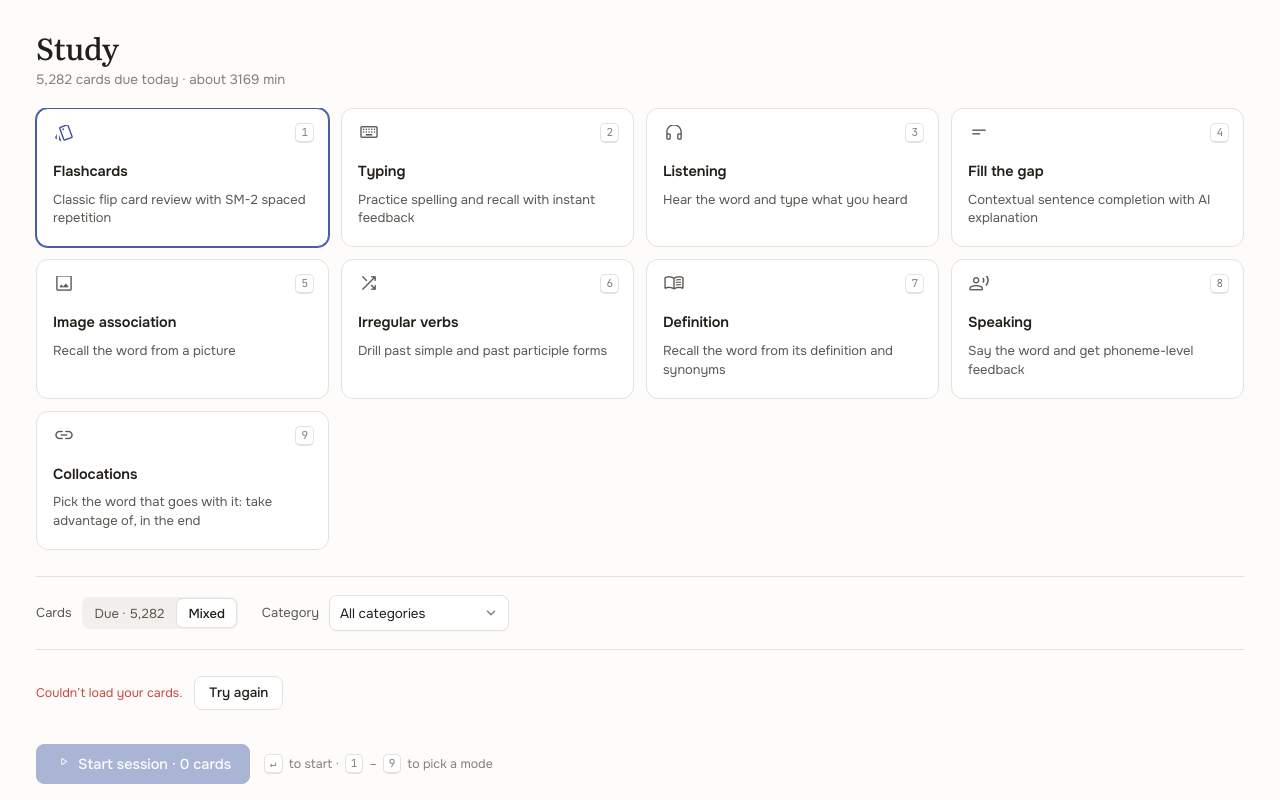
Test: StudyPage › setup screen › shows an error with Try again when the queue cannot be loaded, and recovers
What coordinates should you click on to do the following:
click the button "Try again"
I would click on:
 (239, 693)
Its box is left=194, top=676, right=283, bottom=710.
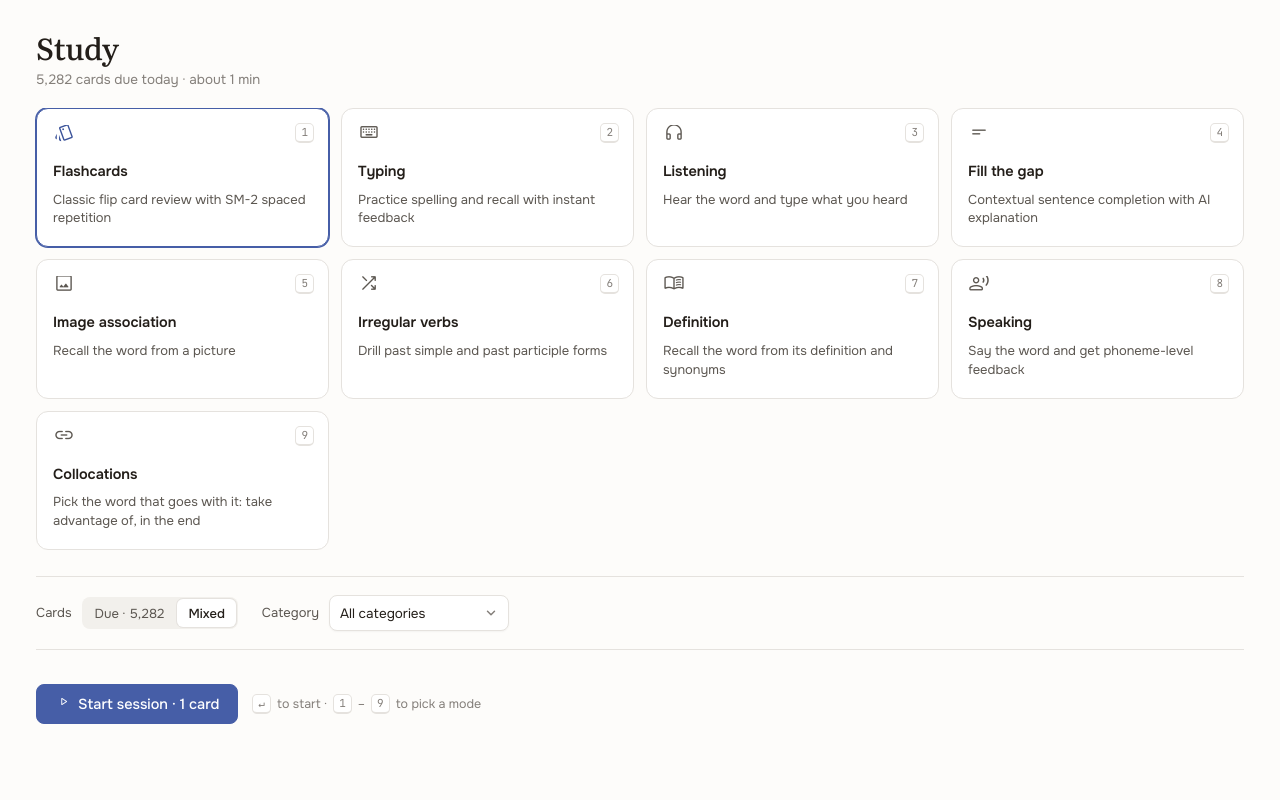
Expected: the button "Start session · 1 card" is enabled, left=36, top=684, right=238, bottom=724
